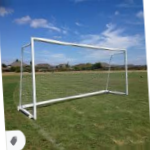goals: (15, 35, 131, 121)
